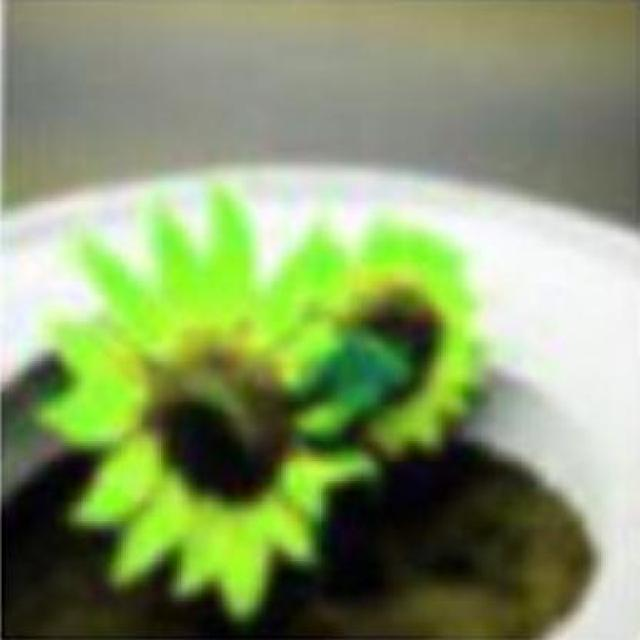sunflower: (59, 195, 358, 608)
